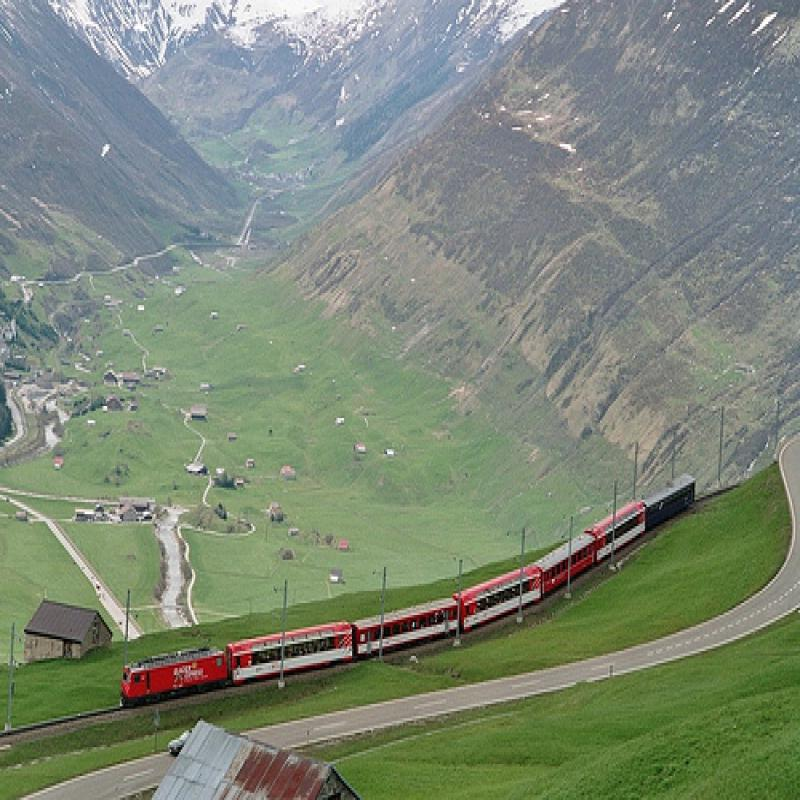train: (118, 467, 695, 703)
